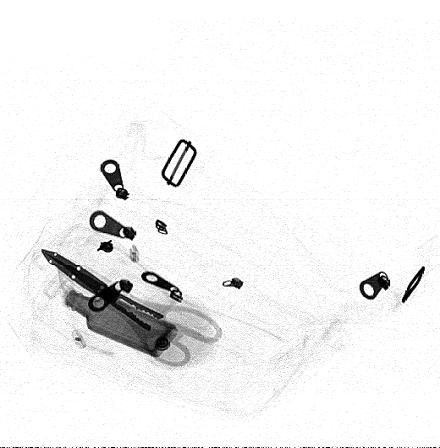Scissors: (38, 246, 225, 370)
